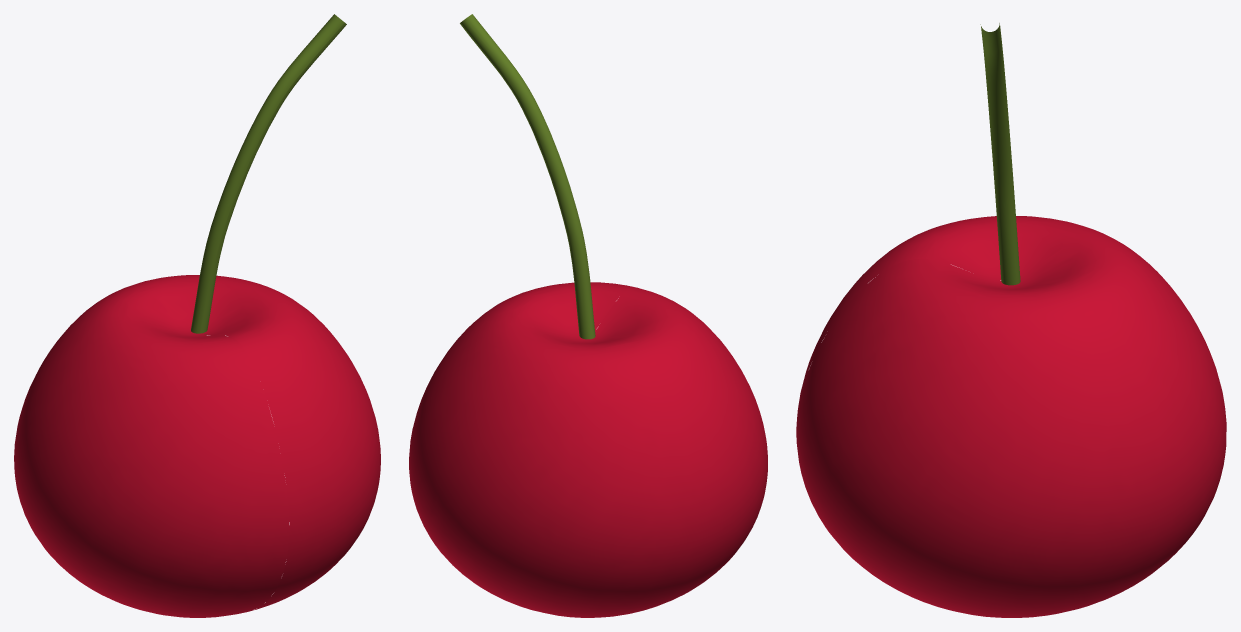
The model's file is cherry.glb.
The picture shows the model from 3 angles, left to right: view 1: azimuth 30°, elevation 25°; view 2: azimuth 150°, elevation 25°; view 3: azimuth 270°, elevation 25°; orthographic projection. The views are drawn at different scales.
Visible parts, largest first — view 1: cherry; view 2: cherry; view 3: cherry.
Boxes of the visible parts, left/top/right/bottom form: cherry: left=14, top=14, right=380, bottom=617; cherry: left=409, top=14, right=767, bottom=617; cherry: left=796, top=23, right=1226, bottom=617.
Bounding box in the file's own units: 2.01 × 3.38 × 2.01.
